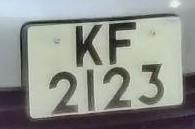1: (80, 65, 102, 114)
2: (41, 66, 87, 115), (99, 62, 137, 113)
3: (134, 61, 168, 108)
F: (103, 18, 140, 68)
K: (69, 22, 108, 72)
